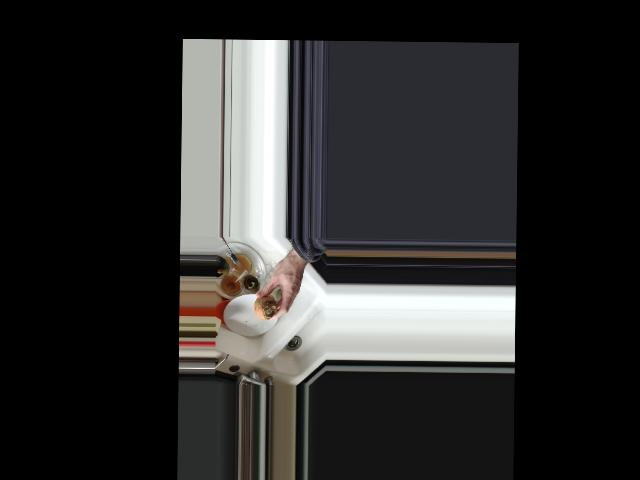sweet_potato: (253, 289, 278, 321)
